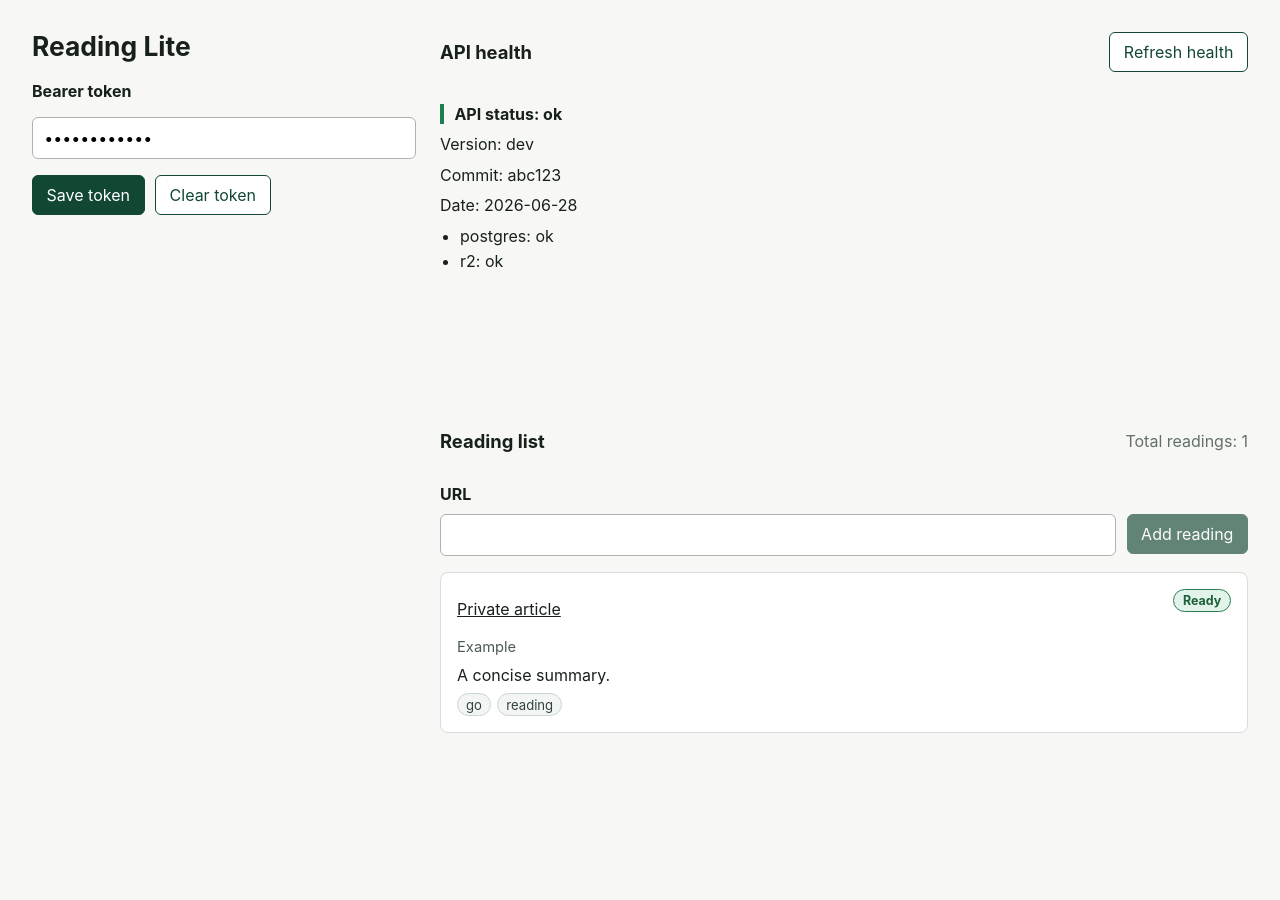
App › clearing the token removes authenticated reading data and skips new list requests
This screenshot has width=1280, height=900.
Expected: the button "Private article" is shown, [457,589,561,629]
Click the button "Clear token" at (213, 195), box [155,175,271,215]
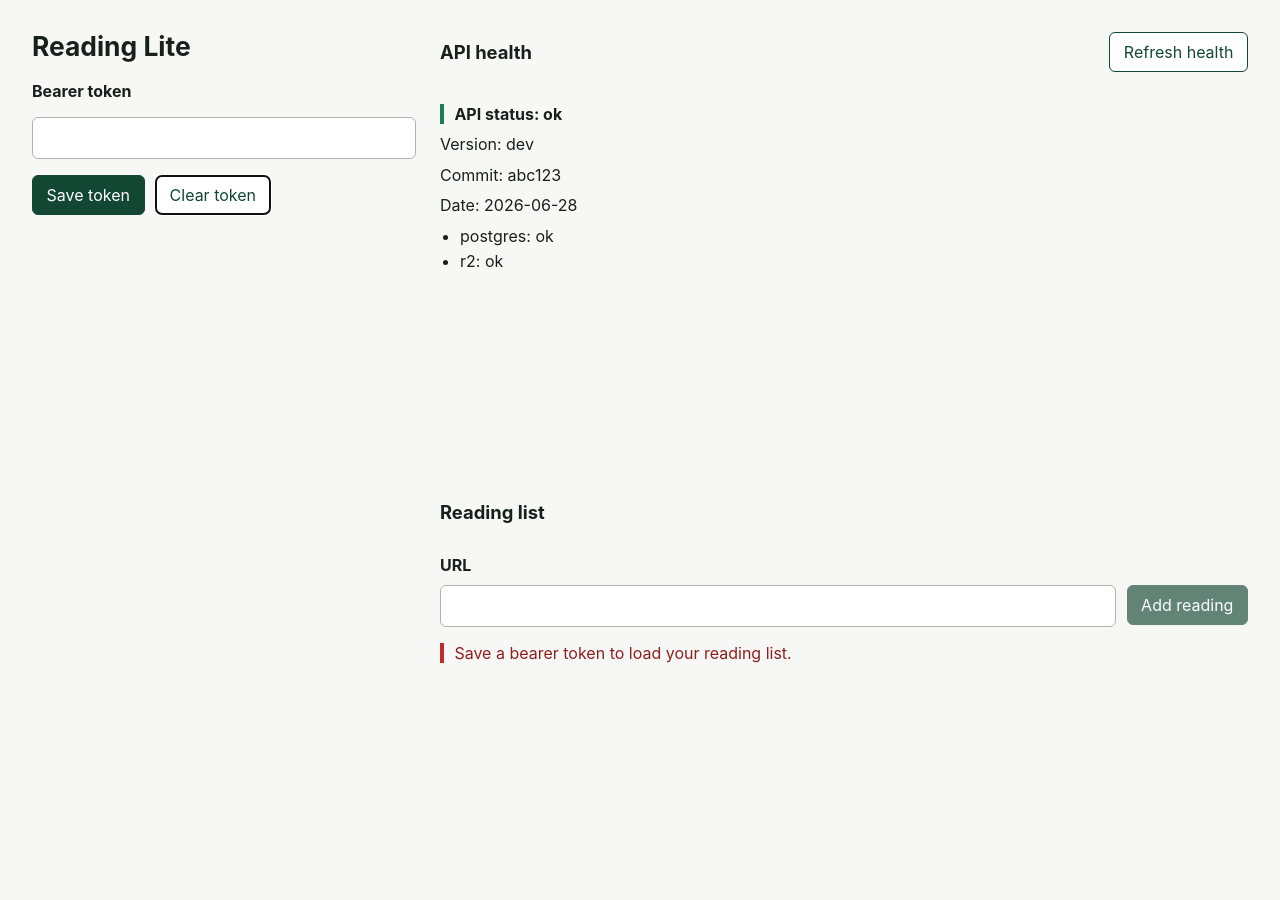
Now the button "Private article" is gone
Now the text "Save a bearer token to load your reading list." is shown, box [440,643,1248,663]
